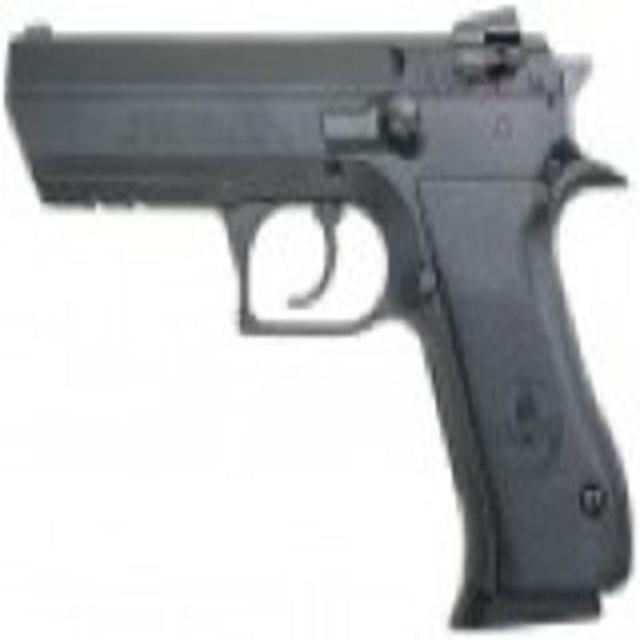pistol: (7, 10, 627, 640)
